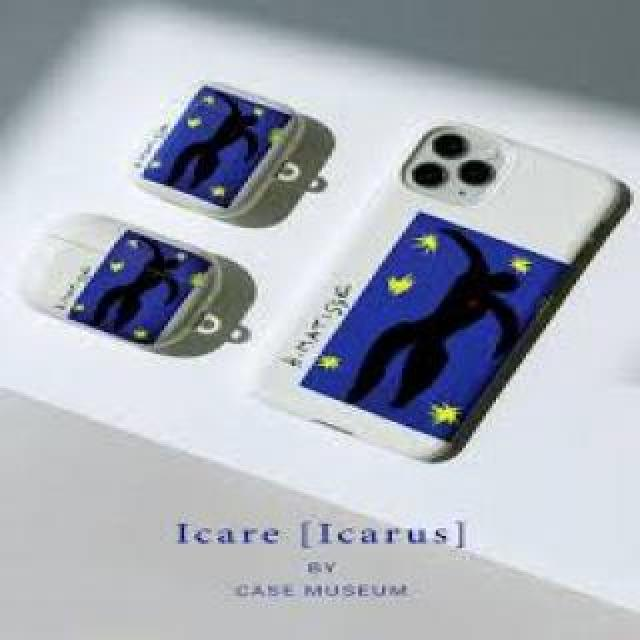mouse: (45, 195, 243, 382)
smart phone: (302, 128, 615, 458)
